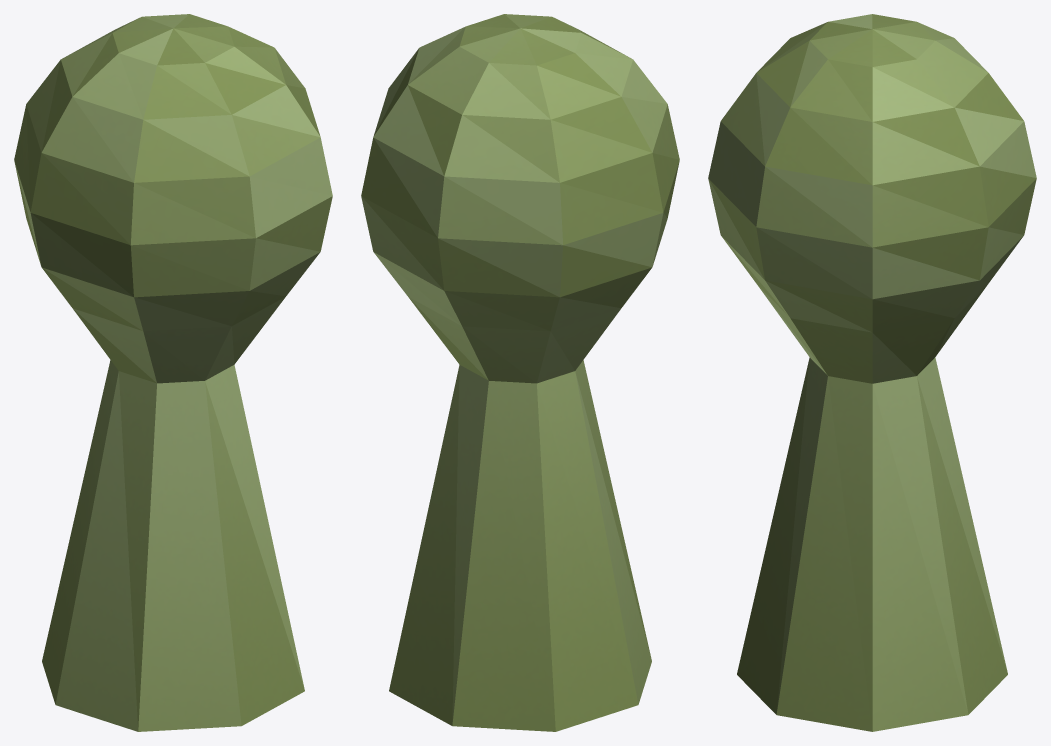
The model's file is Mushroom_Single_3.fbx.
The picture shows the model from 3 angles, left to right: view 1: azimuth 30°, elevation 25°; view 2: azimuth 150°, elevation 25°; view 3: azimuth 270°, elevation 25°; orthographic projection.
Visible parts, largest first — view 1: pSphere9; view 2: pSphere9; view 3: pSphere9.
Boxes of the visible parts, x1=… form: pSphere9: x1=14, y1=14, x2=332, y2=731; pSphere9: x1=361, y1=14, x2=679, y2=731; pSphere9: x1=708, y1=14, x2=1036, y2=731.
Size of the model in its own units: 60 by 130 by 60.
Materials: 1 (1 with a texture image).
